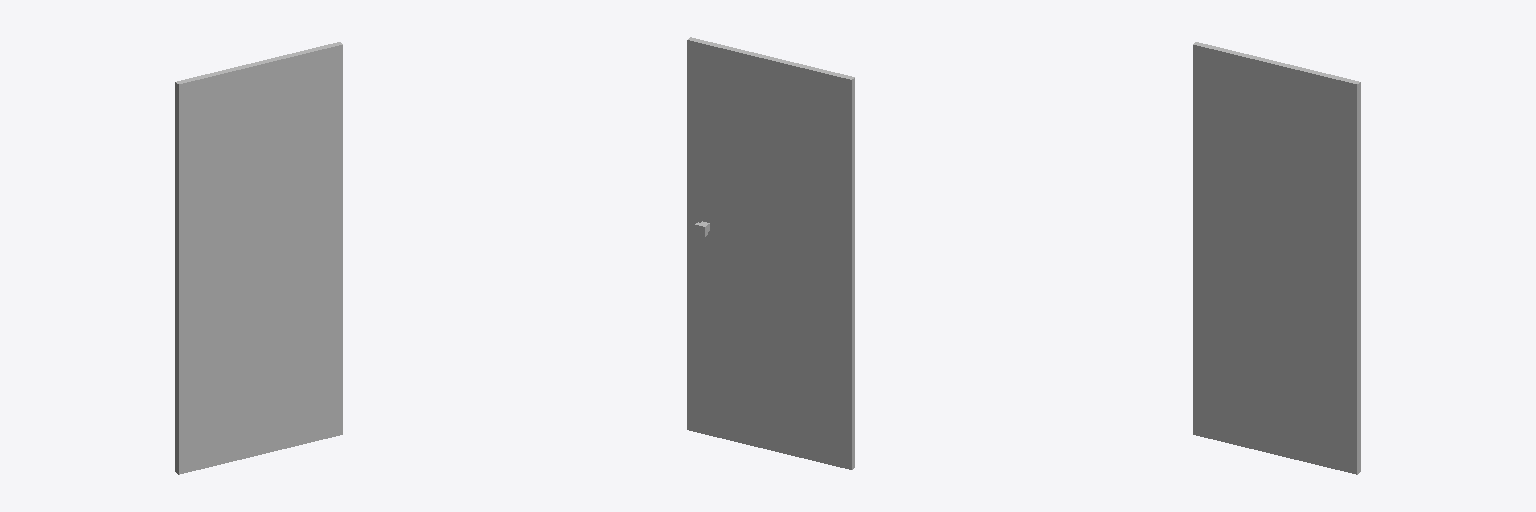
File: Closet Door Right.obj
3 renders of one model, left to right at view 1: azimuth 30°, elevation 25°; view 2: azimuth 150°, elevation 25°; view 3: azimuth 330°, elevation 25°, orthographic.
Parts seen in each view (by area): view 1: Closet_Door_Right; view 2: Closet_Door_Right; view 3: Closet_Door_Right.
Boxes of the visible parts, x1,y1,x2,y2 form: Closet_Door_Right: [175, 42, 342, 474]; Closet_Door_Right: [687, 37, 854, 469]; Closet_Door_Right: [1193, 42, 1360, 474].
Bounding box in the file's own units: 0.9409 × 2.13 × 0.0983.